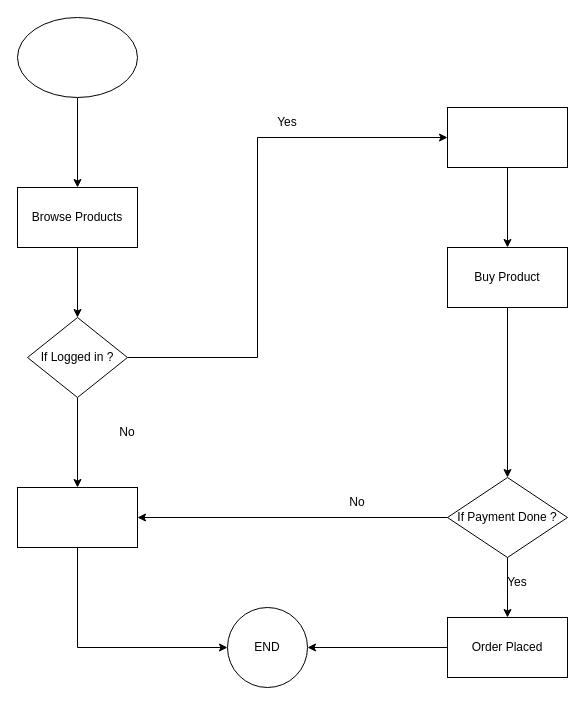
The diagram is 585 pixels wide and 705 high, and some of its shapes have lost their labels. The centre of each missing label's shape, as x and y in pixels:
"Add To Cart" belongs at point 507,137.
"Login" belongs at point 77,517.
"Start" belongs at point 77,57.
